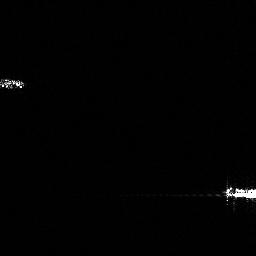ship: (223, 183, 256, 201), (1, 75, 26, 91)
